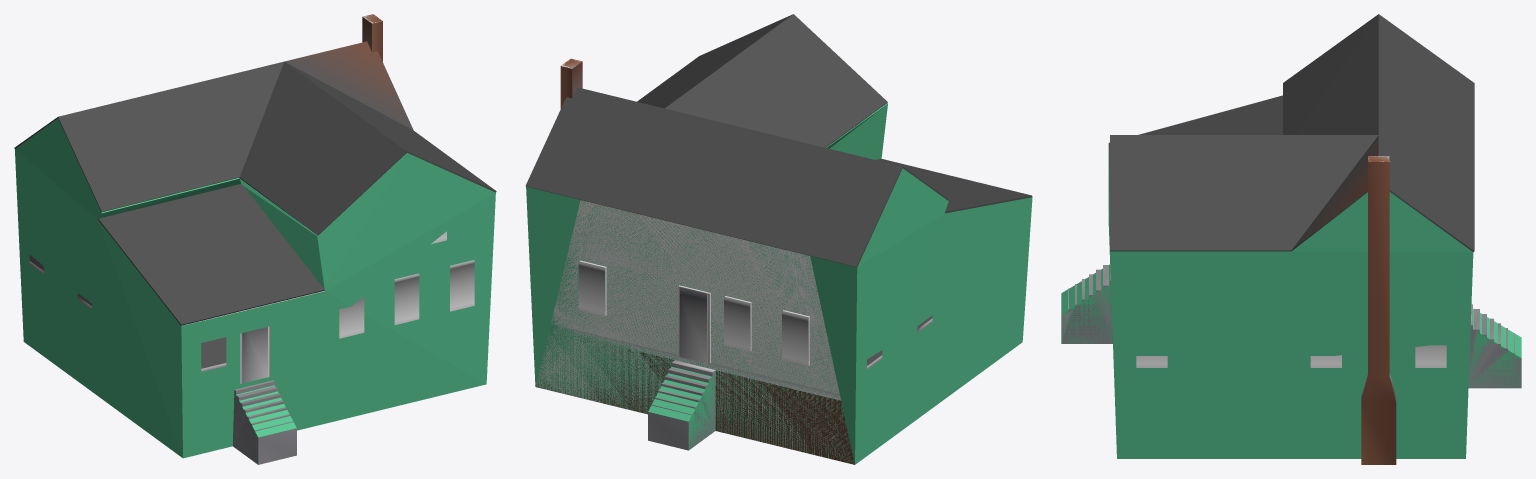
The model's file is eca_bld_house_04_a.dae.
The picture shows the model from 3 angles, left to right: view 1: azimuth 30°, elevation 25°; view 2: azimuth 150°, elevation 25°; view 3: azimuth 270°, elevation 25°; orthographic projection. The views are drawn at different scales.
Parts seen in each view (by area): view 1: Colmesh-1, ind_bld_a100, ind_bld_a400; view 2: Colmesh-1, ind_bld_a400, ind_bld_a100, ind_bld_a60; view 3: Colmesh-1, ind_bld_a400, ind_bld_a100.
Boxes of the visible parts, x1,y1,x2,y2 form: Colmesh-1: [15, 118, 495, 464]; ind_bld_a100: [29, 14, 474, 464]; ind_bld_a400: [14, 14, 496, 325]; Colmesh-1: [526, 103, 1032, 464]; ind_bld_a400: [525, 14, 1032, 393]; ind_bld_a100: [535, 59, 1031, 464]; ind_bld_a60: [536, 118, 866, 462]; Colmesh-1: [1061, 149, 1521, 458]; ind_bld_a400: [1110, 14, 1474, 252]; ind_bld_a100: [1061, 14, 1521, 464].
Bounding box in the file's own units: 11.6 × 13.2 × 9.58.
